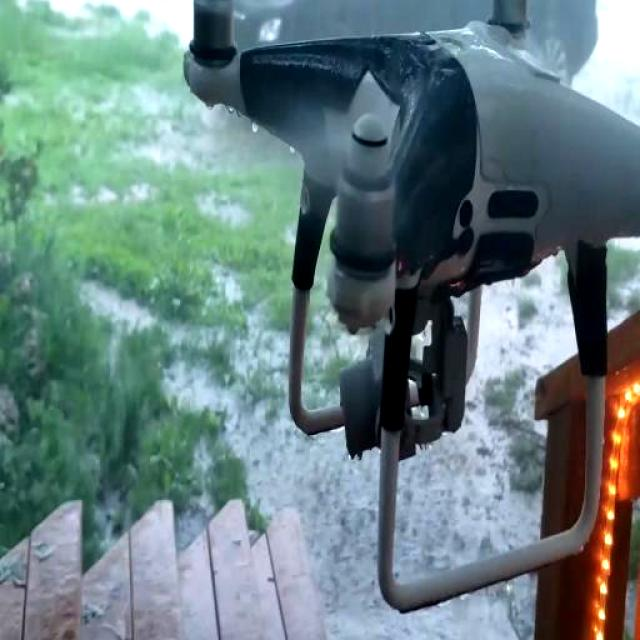bird: (174, 0, 640, 626)
